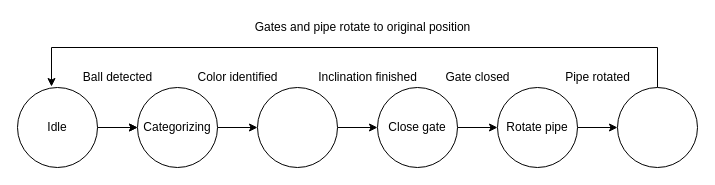
The diagram is 715 pixels wide and 185 high, and some of its shapes have lost their labels. Here are the shapes that lost their labels. From the top down, the box of each, then its label:
(256, 86, 338, 168): Incline ramp down
(616, 86, 698, 168): Restore defaults
